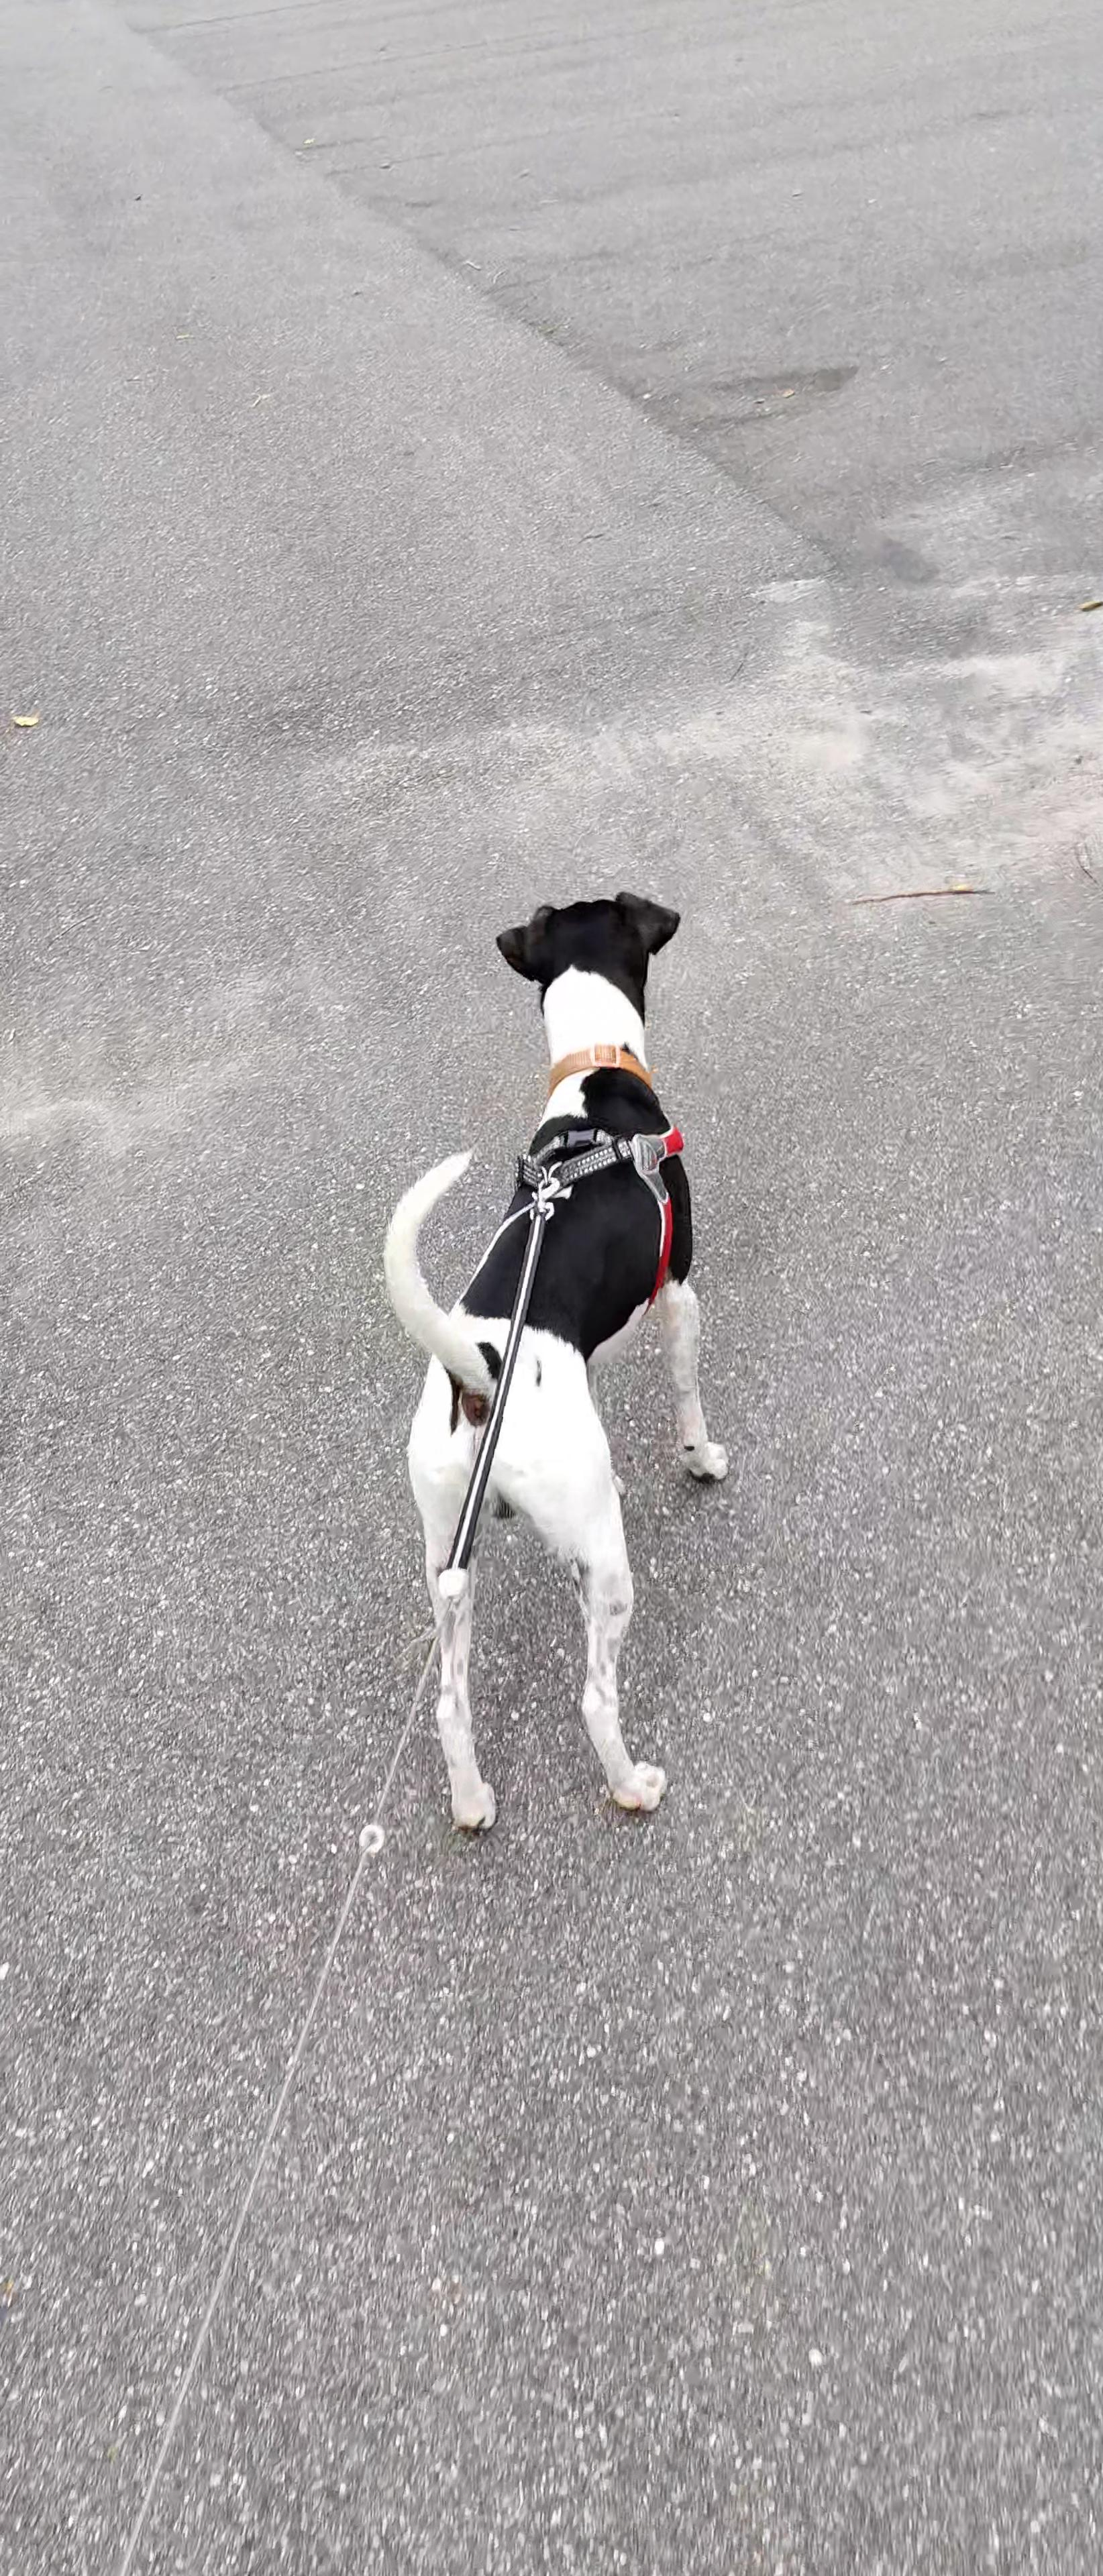Dog: (373, 882, 741, 1847)
